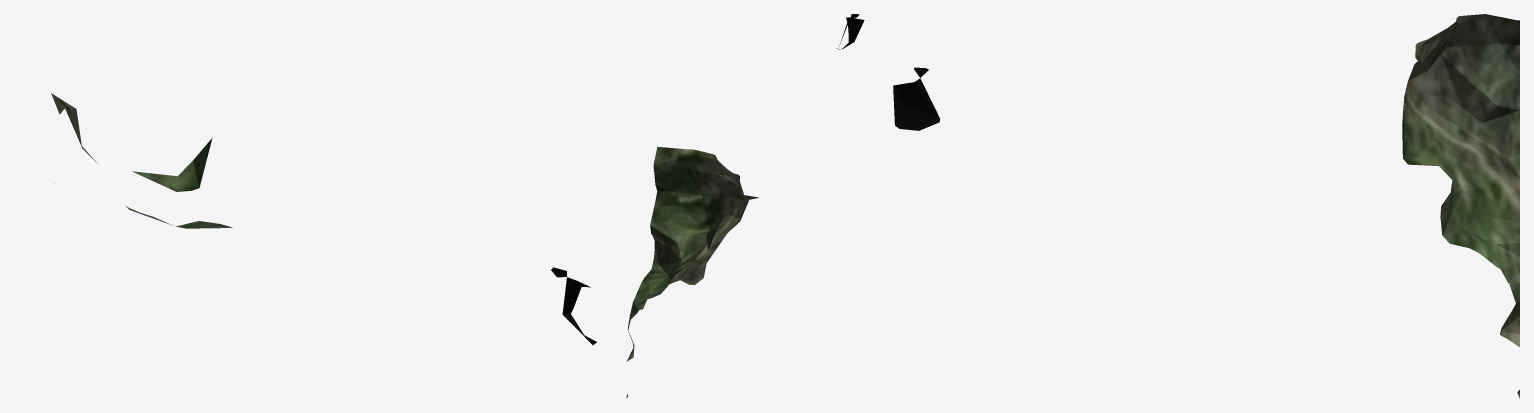
3 views of the same model, side by side, from view 1: azimuth 30°, elevation 25°; view 2: azimuth 150°, elevation 25°; view 3: azimuth 270°, elevation 25° (orthographic). The views are drawn at different scales.
Bounding box in the file's own units: 0.6294 × 1.36 × 2.42.
1 material, 1 textured.
